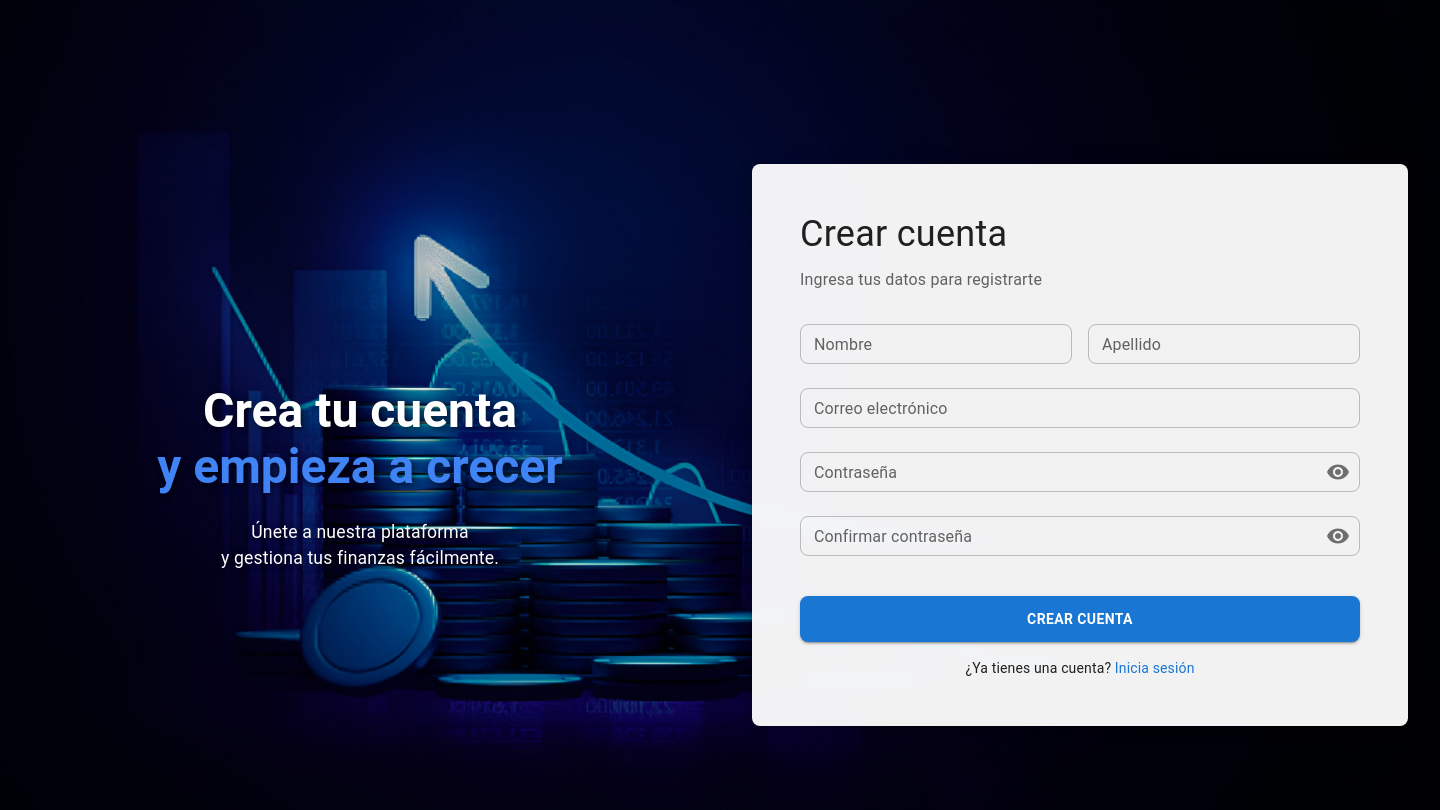
RegisterForm › muestra error si las contrasenas no coinciden
Type "Ana" into the field labelled "Nombre" at coordinates (936, 344), box [800,324,1072,364]
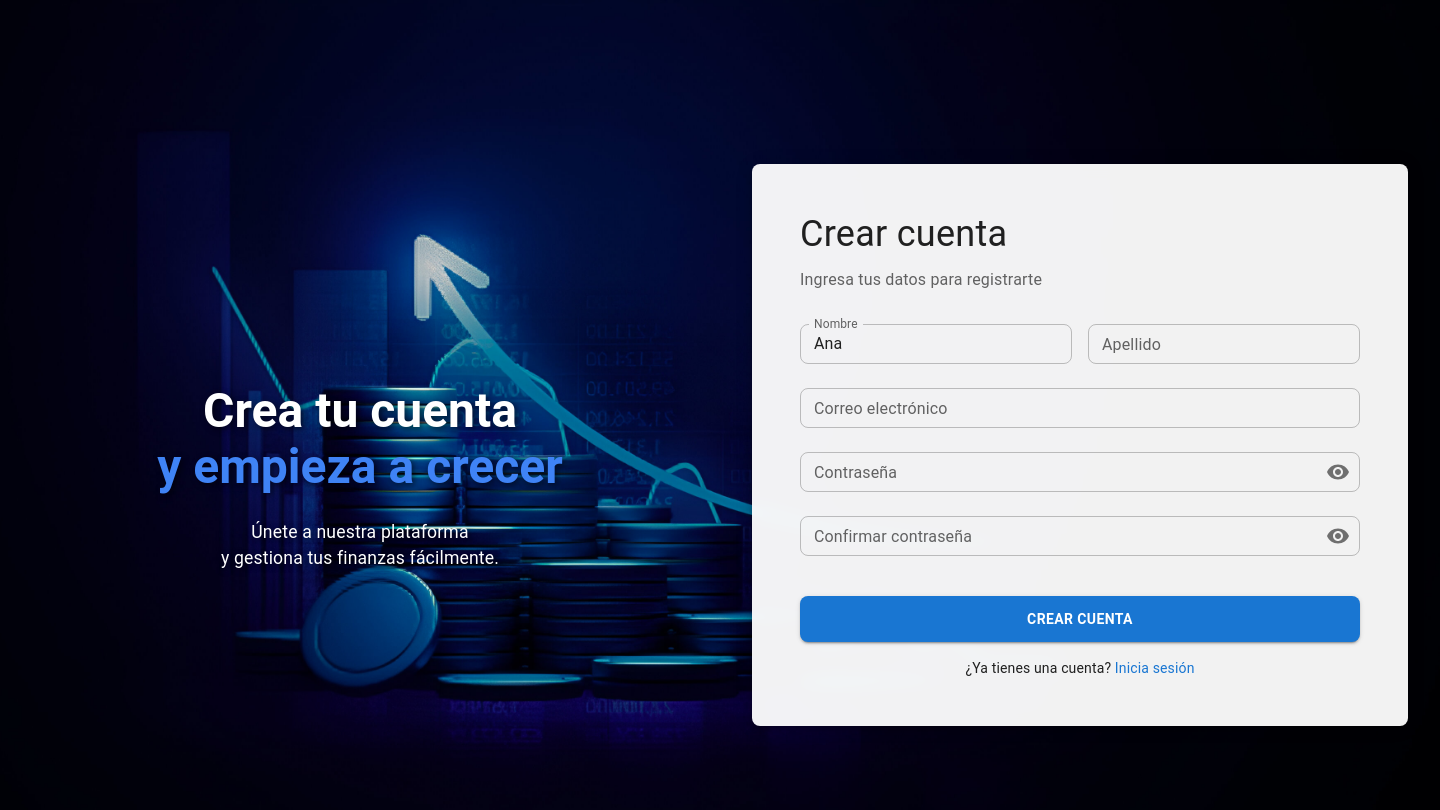
Type "Lopez" into the field labelled "Apellido" at coordinates (1224, 344), box [1088,324,1360,364]
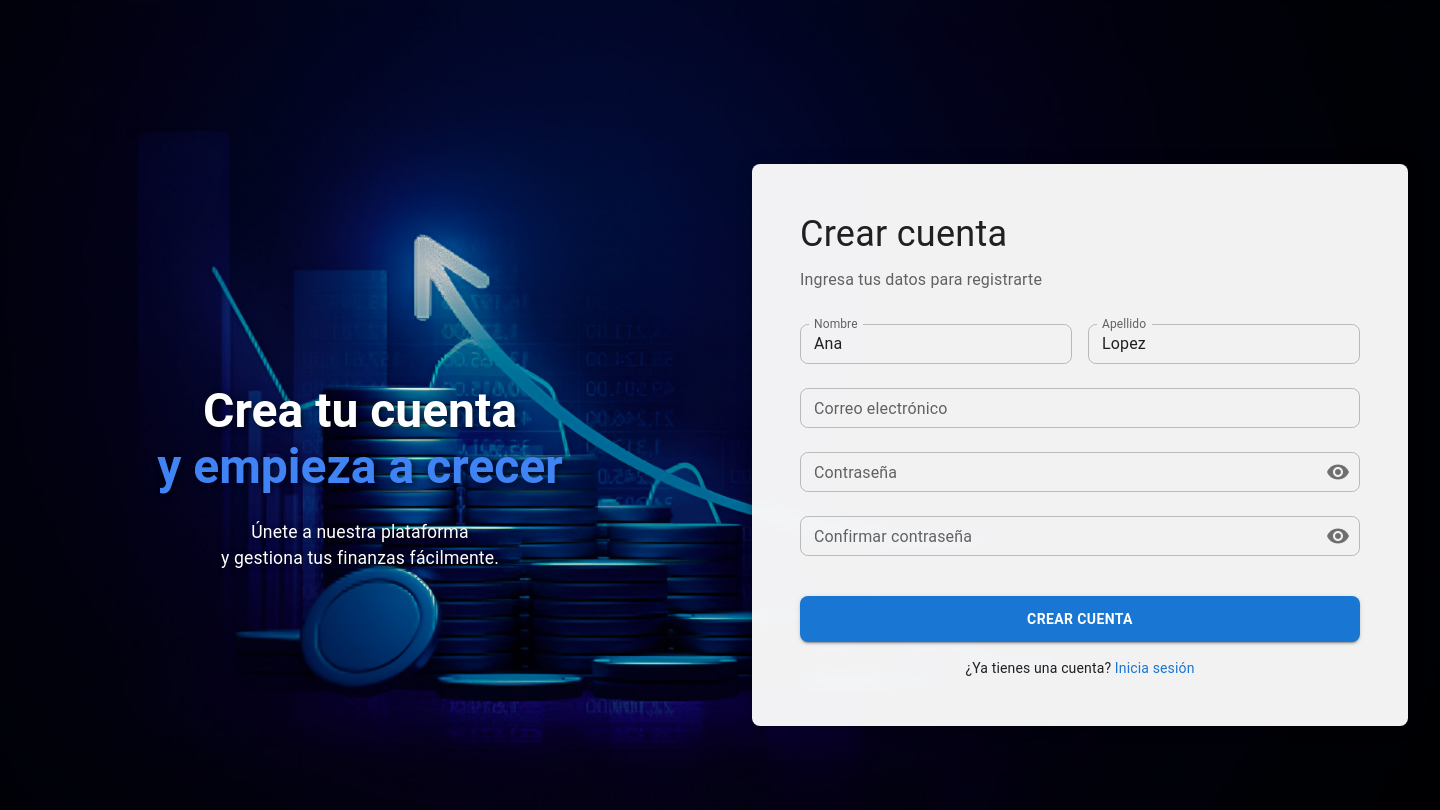
Type "ana@mail.com" into the field labelled "Correo electrónico" at coordinates (1080, 408), box [800,388,1360,428]
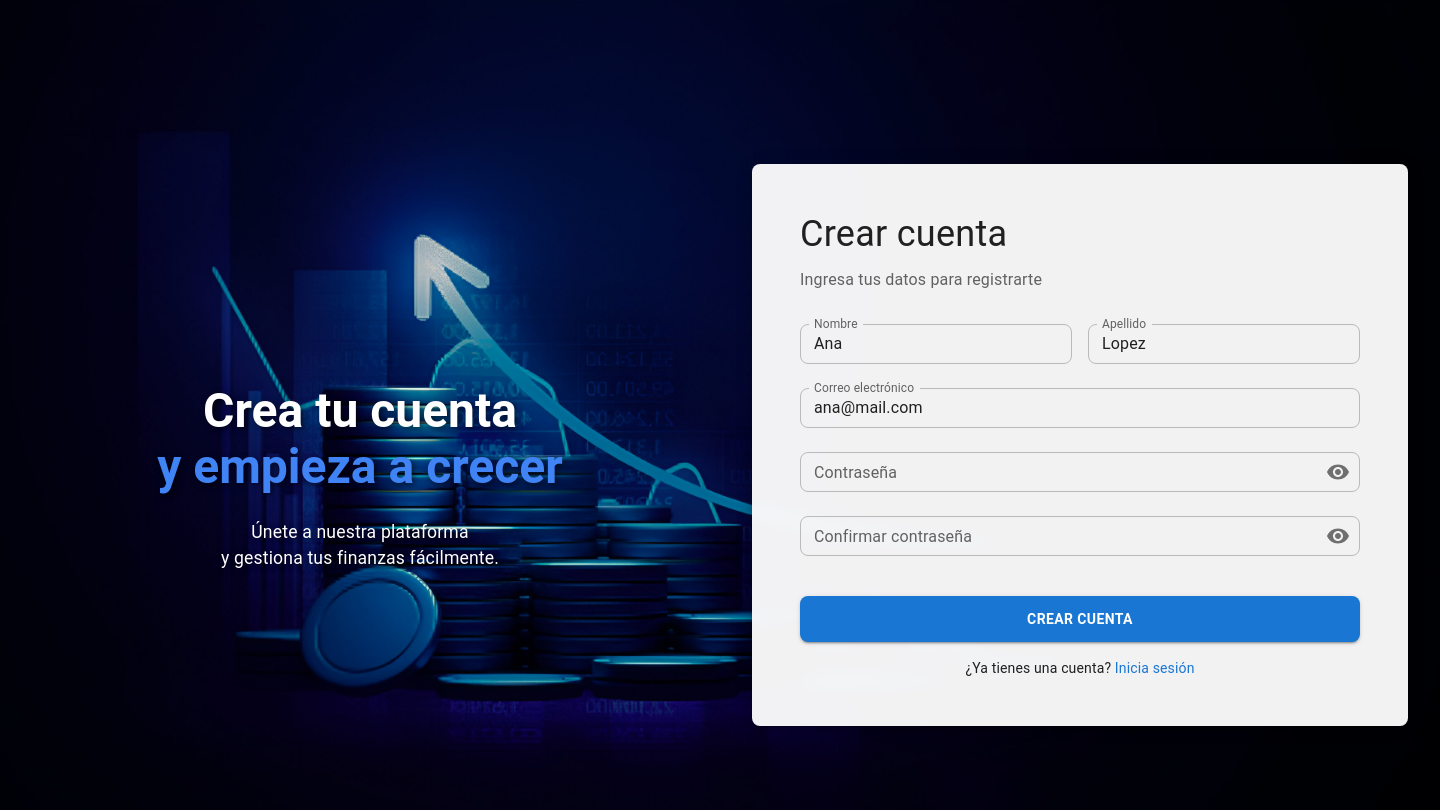
Type "abc123" into the password field labelled "Contraseña" at coordinates (1055, 472), box [800,452,1310,492]
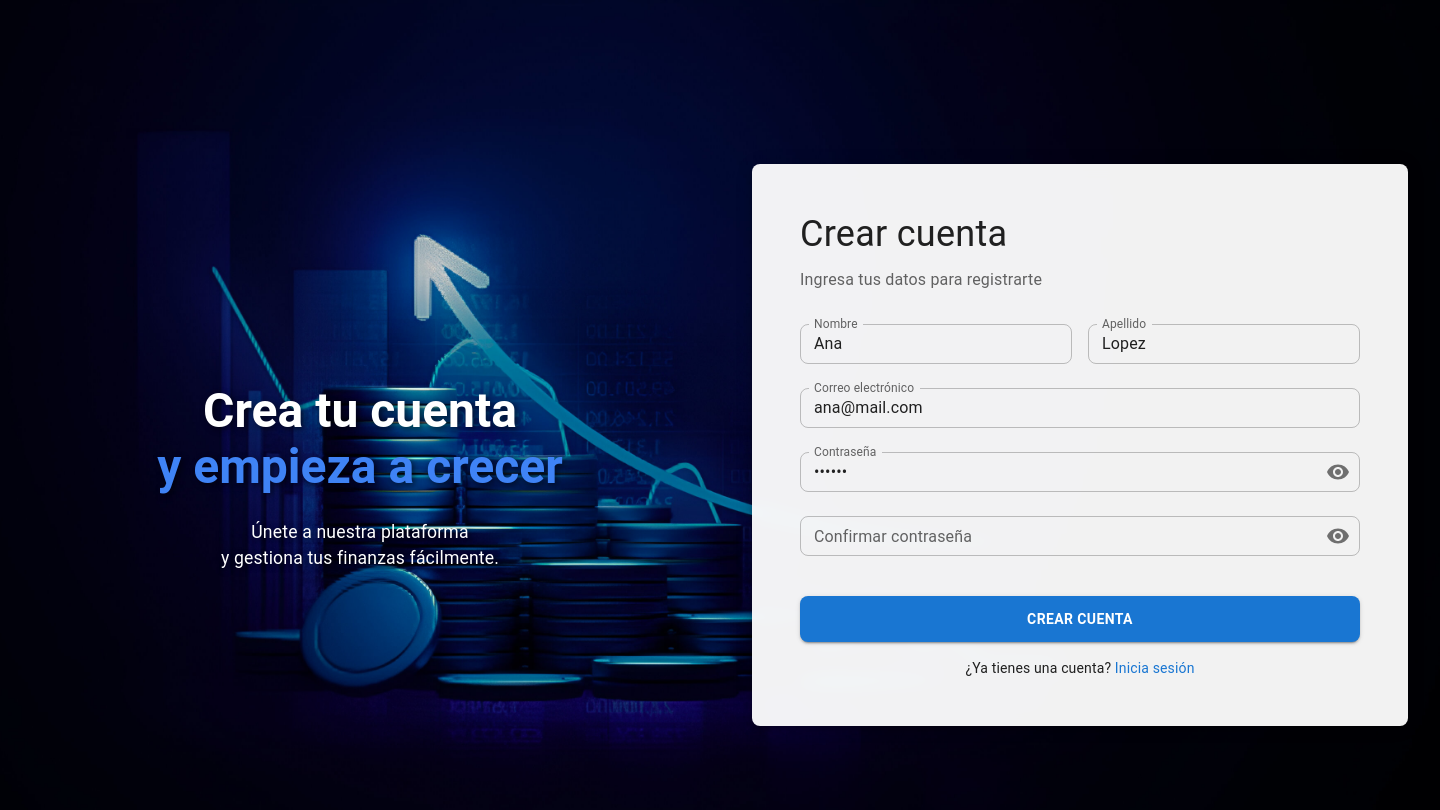
Type "xyz123" into the password field labelled "Confirmar contraseña" at coordinates (1055, 536), box [800,516,1310,556]
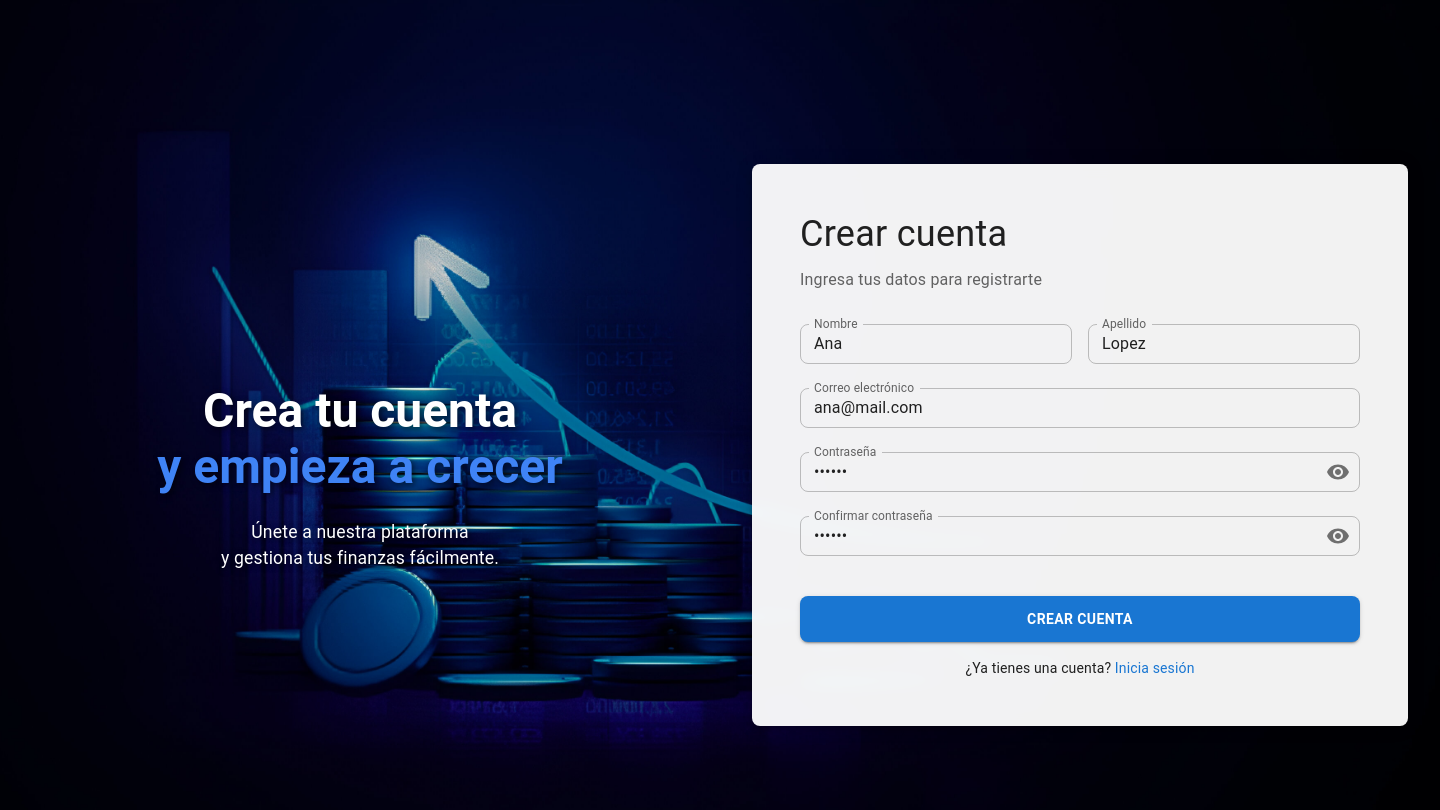
Click the button "Crear cuenta" at coordinates (1080, 619), box [800,596,1360,642]
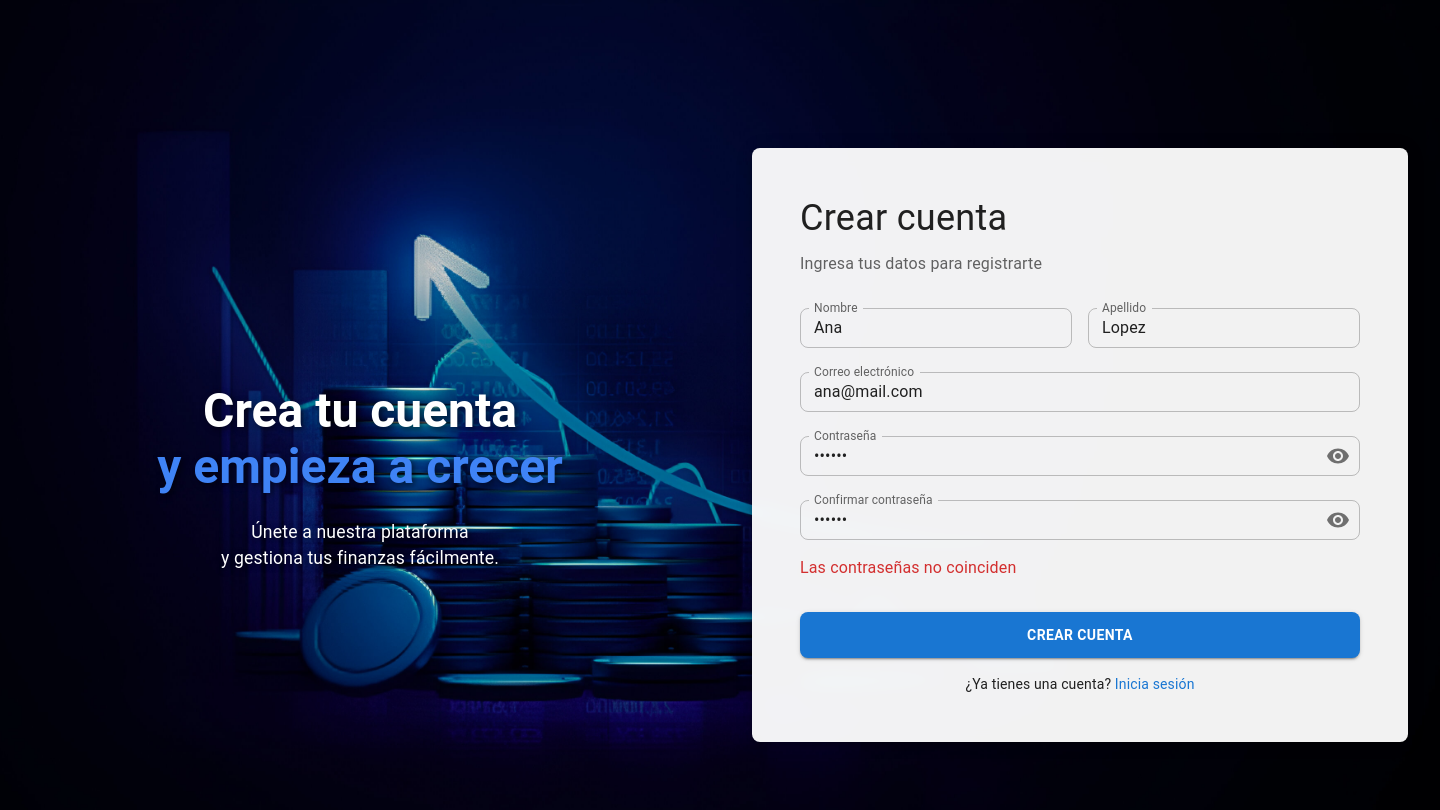
Expected: the text "Las contraseñas no coinciden" is shown, [800,558,1016,576]
